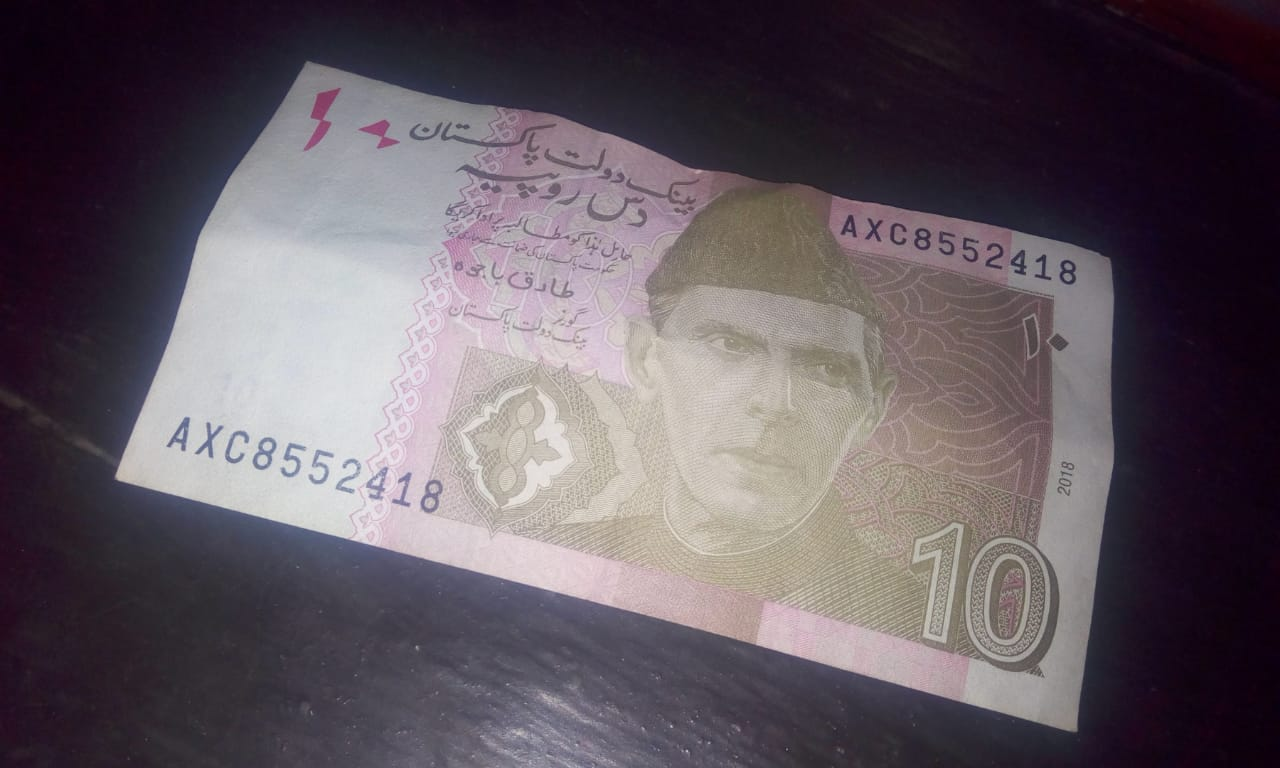10 rupee: (100, 65, 1155, 733)
